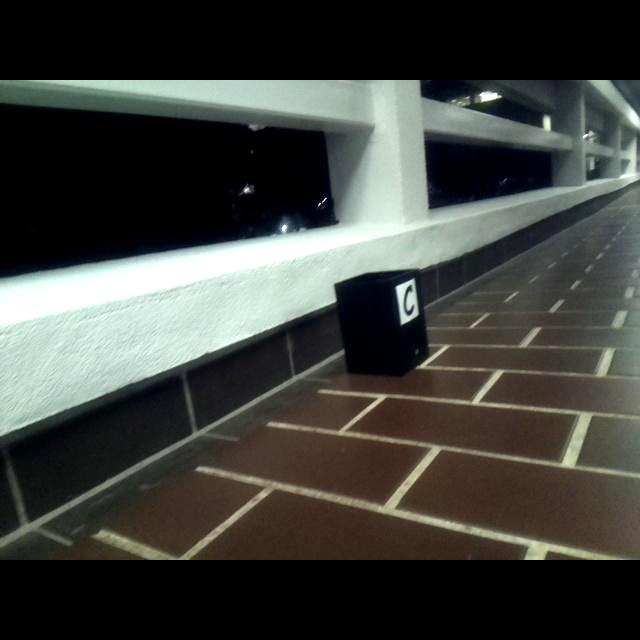C: (404, 283, 415, 315)
